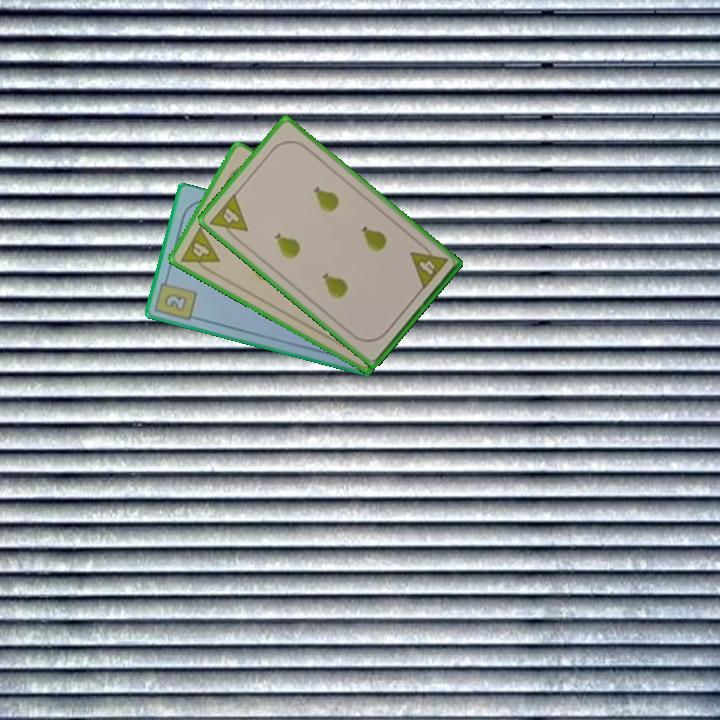2b: (152, 272, 200, 324)
4p: (205, 190, 251, 244), (177, 224, 222, 277), (406, 239, 450, 292)
